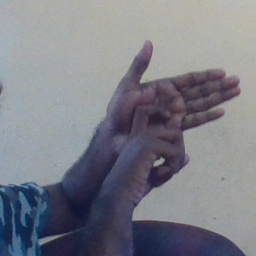R: (99, 39, 249, 185)
